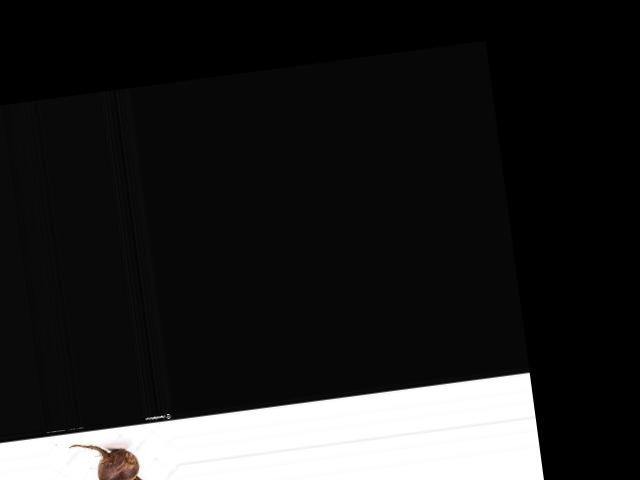beet: (68, 435, 156, 480)
